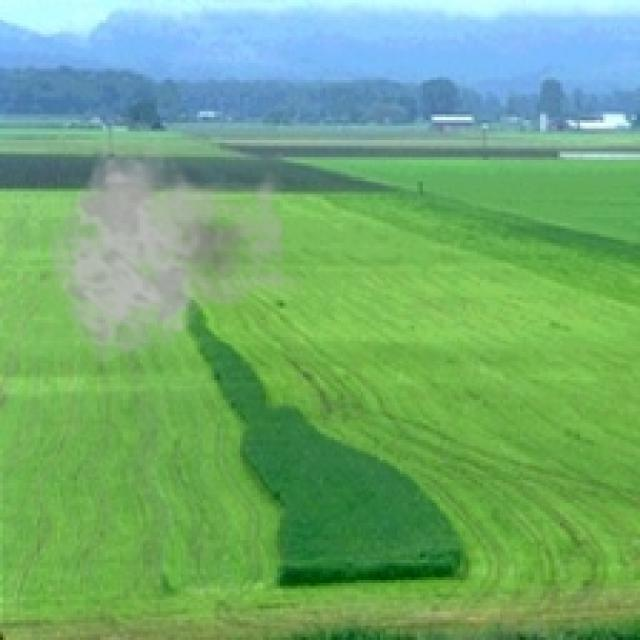smoke: (46, 131, 306, 366)
